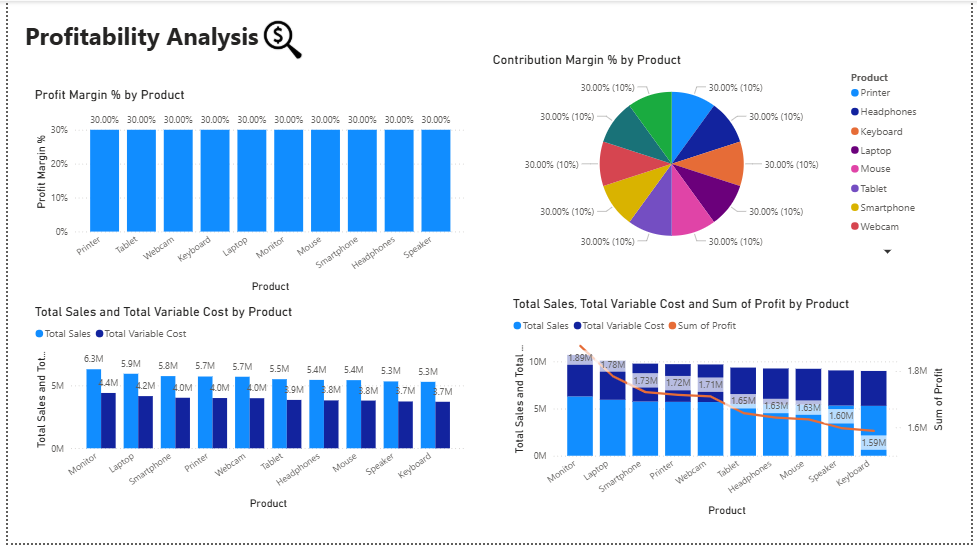

The dashboard page shown, as its layout file describes it:
{"tool":"powerbi","page":{"name":"Profit Analysis","canvas":[1280,720],"ordinal":6},"visuals":[{"type":"clusteredColumnChart","fields":{"Category":["SalesData.Product"],"Y":["_All Measures.Profit Margin %"]},"box":[30.7,114.1,582.4,278],"z":0},{"type":"pieChart","fields":{"Y":["_All Measures.Contribution Margin %"],"Category":["SalesData.Product"]},"box":[639.5,67.3,582.4,278],"z":1000},{"type":"clusteredColumnChart","fields":{"Category":["SalesData.Product"],"Y":["_All Measures.Total Sales","_All Measures.Total Variable Cost"]},"box":[31,402,582,278],"z":2000},{"type":"lineStackedColumnComboChart","fields":{"Category":["SalesData.Product"],"Y":["_All Measures.Total Sales","_All Measures.Total Variable Cost"],"Y2":["Sum(SalesData.Profit)"]},"box":[665.9,392.2,582.4,298.5],"z":3000},{"type":"textbox","box":[17.6,19,421.5,61.5],"z":4000},{"type":"image","box":[333.7,23.4,65.9,57.1],"z":5000}]}

Visuals, with their boxes in screenshot pixels (x1, y1, x2, y2), scaled from the page's 1280x720 canvas onto the 977x546 screenshot:
clusteredColumnChart - SalesData.Product x _All Measures.Profit Margin %: crop(23, 87, 468, 297)
pieChart - _All Measures.Contribution Margin % x SalesData.Product: crop(488, 51, 933, 262)
clusteredColumnChart - SalesData.Product x _All Measures.Total Sales: crop(24, 305, 468, 516)
lineStackedColumnComboChart - SalesData.Product x _All Measures.Total Sales: crop(508, 297, 953, 524)
textbox: crop(13, 14, 335, 61)
image: crop(255, 18, 305, 61)
